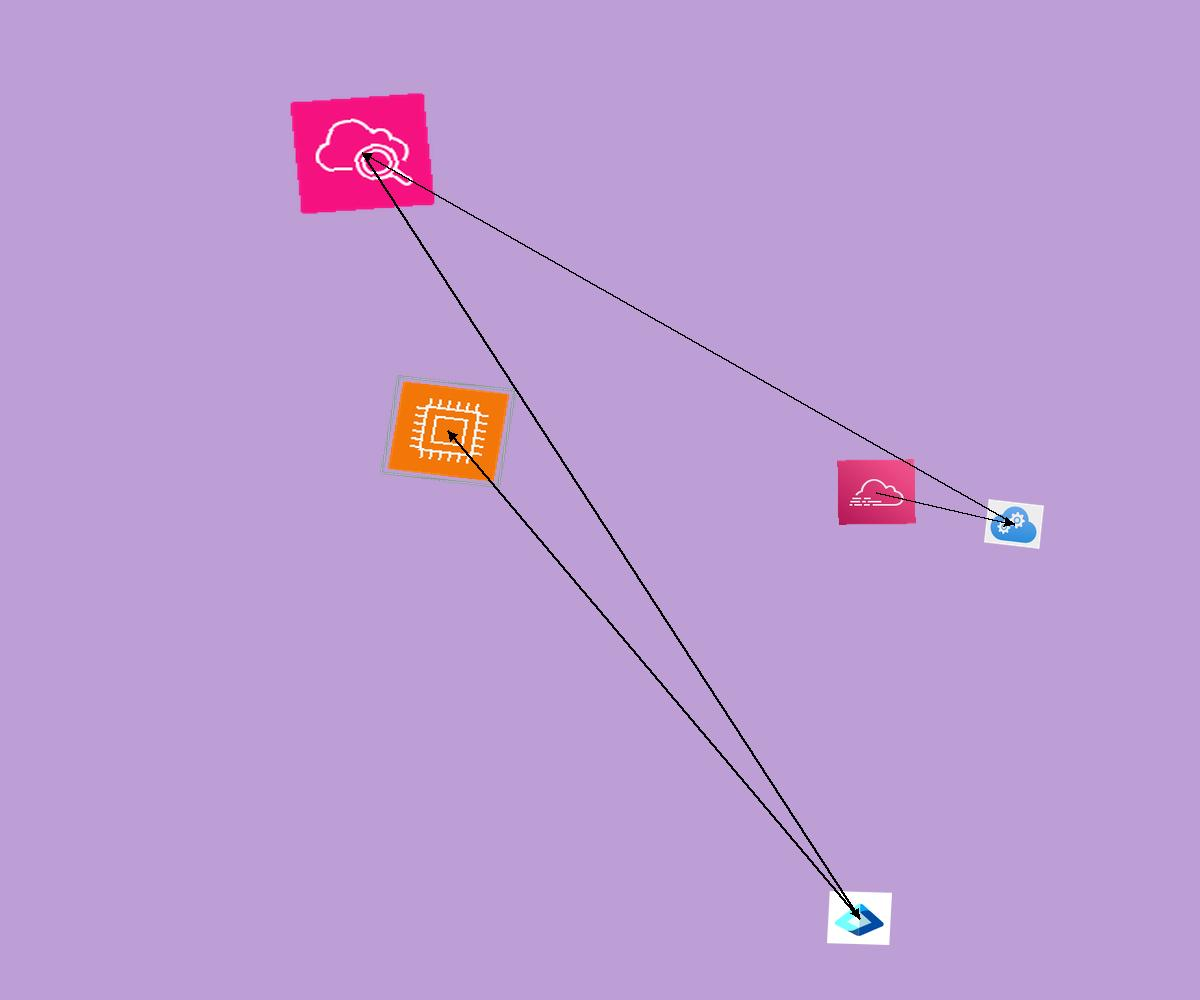AWS-Category_Compute: (379, 374, 518, 489)
AWS-CloudTrail: (837, 459, 916, 525)
AWS-CloudWatch: (289, 92, 436, 215)
Azure_cloud_services: (984, 499, 1044, 549)
Azure_microsoft_entra: (827, 891, 892, 945)
